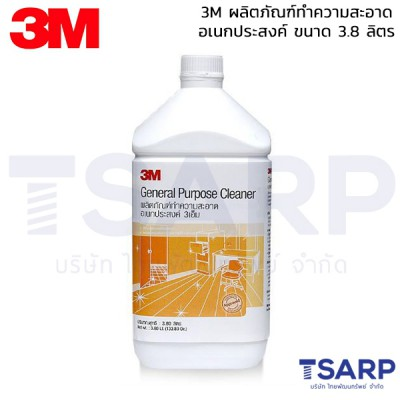Cleaning_solution: (126, 49, 278, 373)
